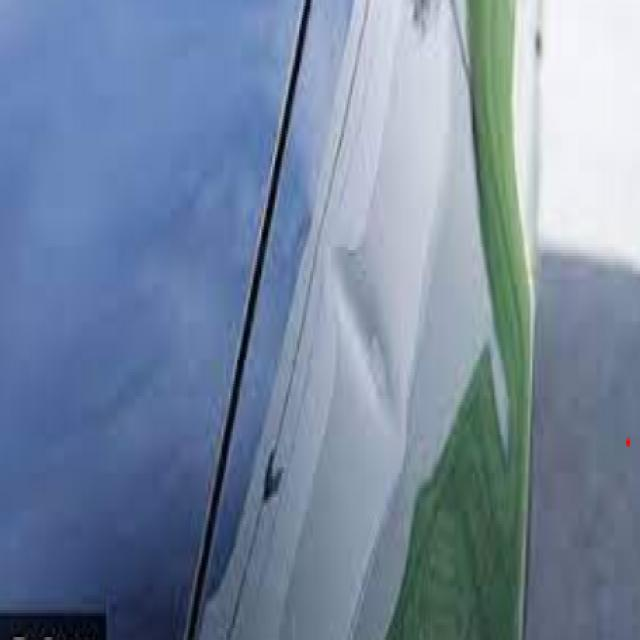dents: (321, 241, 427, 468)
